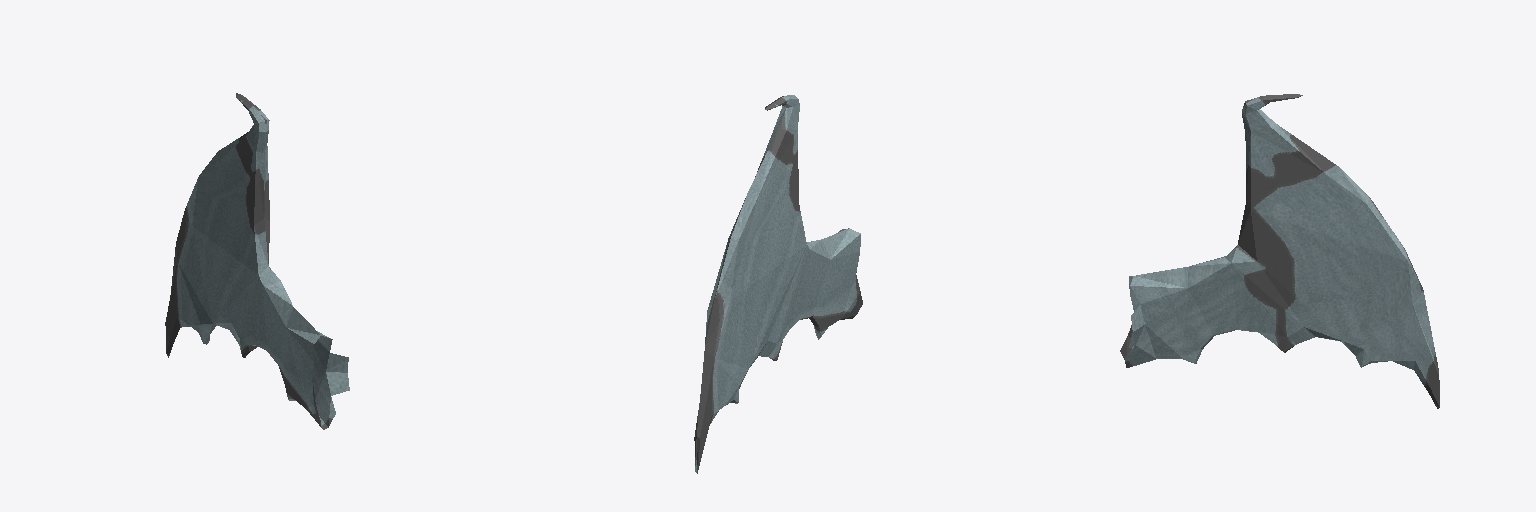
3 views of the same model, side by side, from view 1: azimuth 30°, elevation 25°; view 2: azimuth 150°, elevation 25°; view 3: azimuth 270°, elevation 25° (orthographic).
Parts seen in each view (by area): view 1: Wing_Right; view 2: Wing_Right; view 3: Wing_Right.
Part boxes in pixels (x1,y1,x2,y2): Wing_Right: (165, 93, 349, 429); Wing_Right: (694, 95, 862, 473); Wing_Right: (1120, 94, 1439, 408).
Bounding box in the file's own units: 4.79 × 39.68 × 36.38.
Materials: 1 (1 with a texture image).